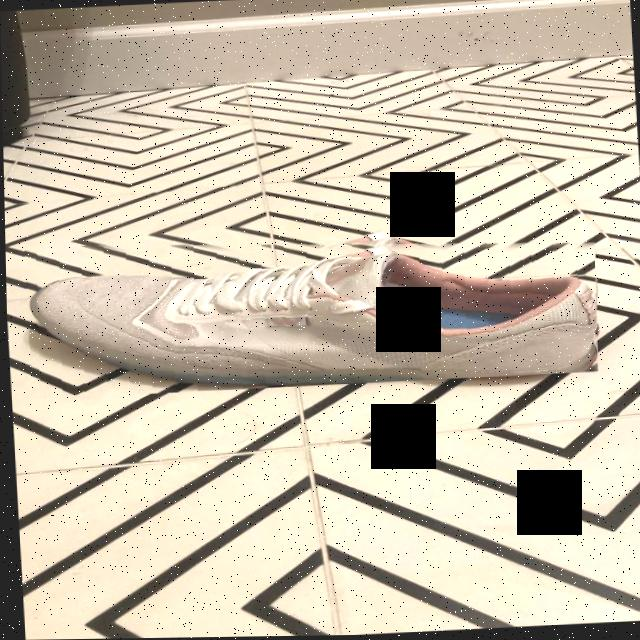shoe: (22, 219, 600, 400)
